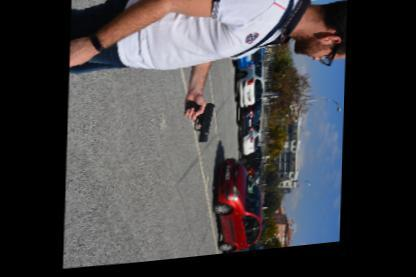pistol: (184, 100, 216, 146)
